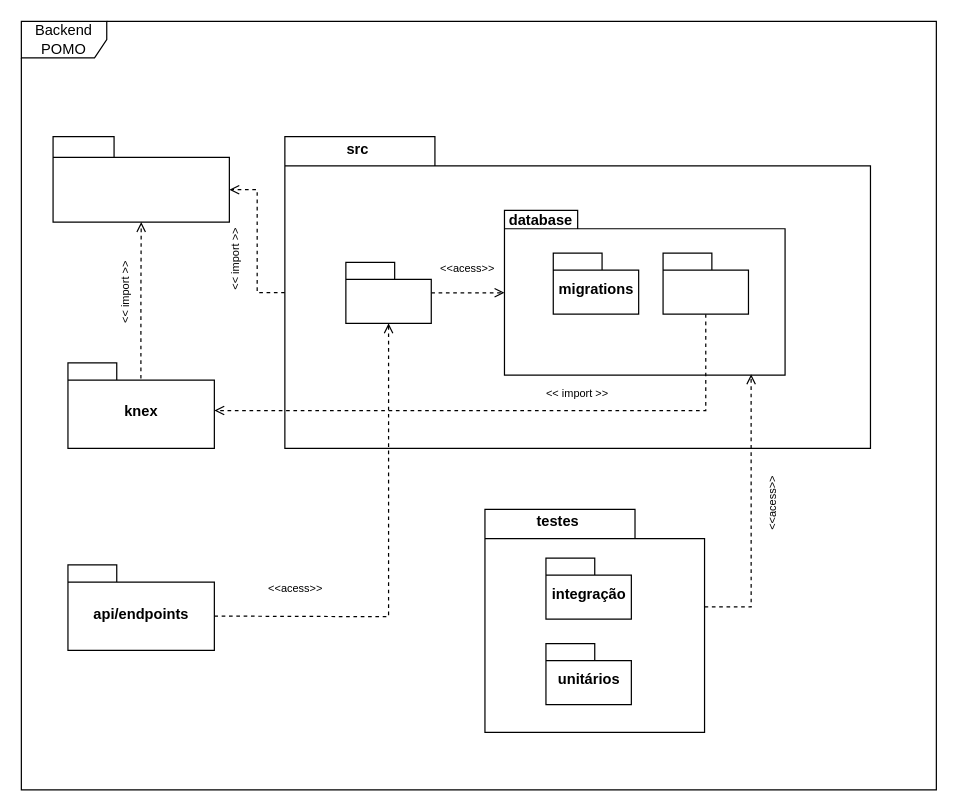
Image size: 958x811. Some labels were removed from this diagram. Each missing label, with the centre of its shape:
conexões: (x=705, y=283)
controllers: (x=388, y=292)
node_modules: (x=140, y=178)
